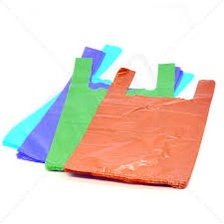plastic_bag: (0, 40, 196, 163), (13, 42, 187, 169), (60, 60, 215, 191), (39, 53, 181, 177)
